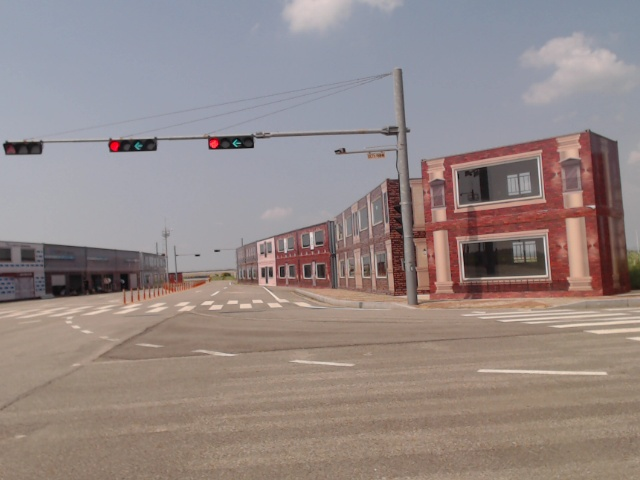left_green_4: (209, 138, 254, 149), (109, 141, 156, 151)
